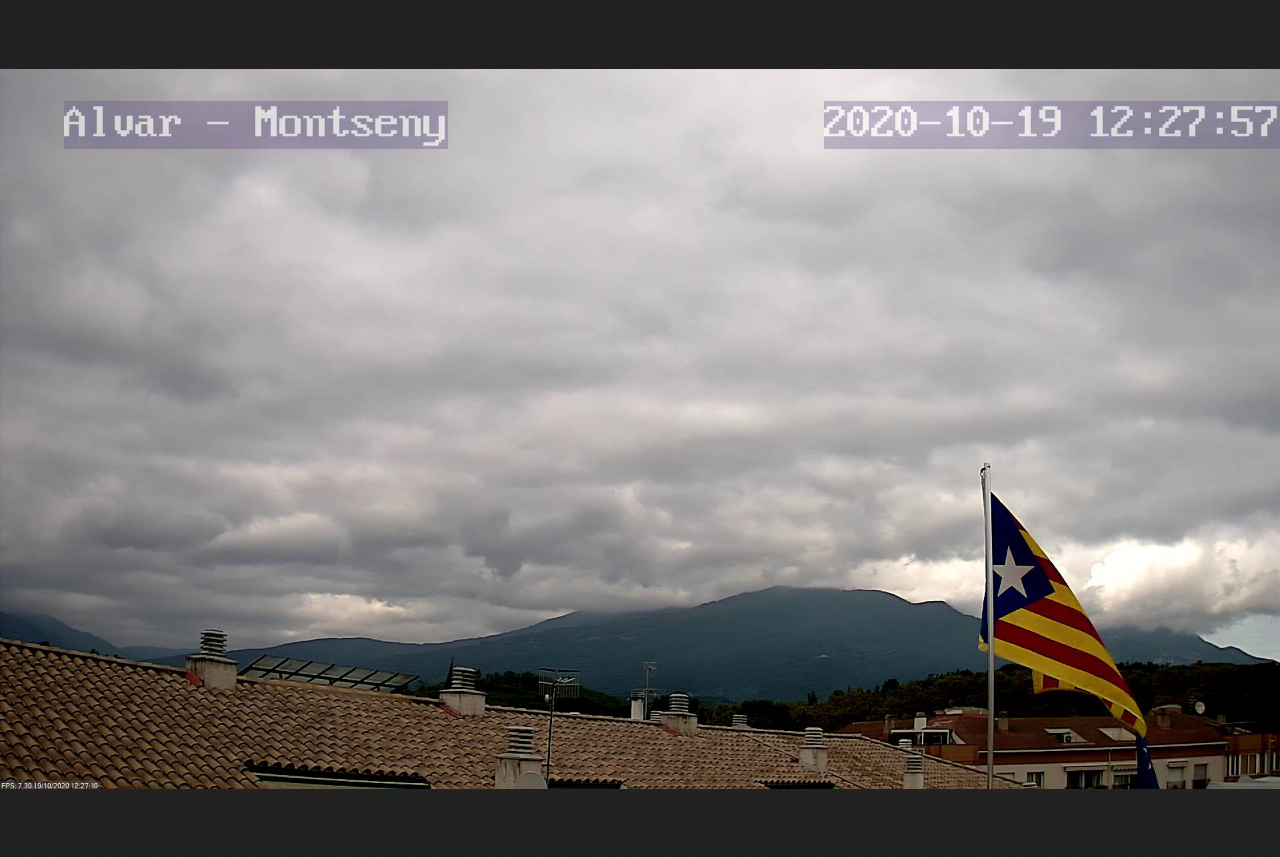maybe: (978, 492, 1147, 739)
